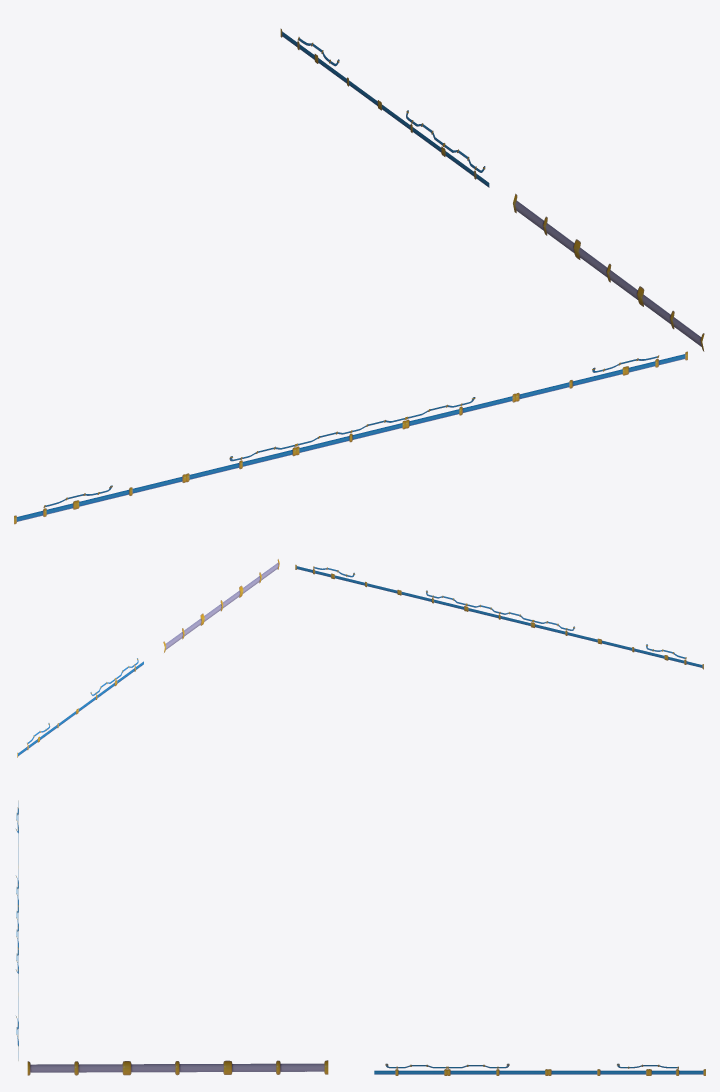
File: Pipes_Level16_63.fbx
3 views of the same model, one above another, from view 1: azimuth 30°, elevation 25°; view 2: azimuth 150°, elevation 25°; view 3: azimuth 270°, elevation 25° (orthographic). The views are drawn at different scales.
Parts seen in each view (by area): view 1: Top_Pipes_2D_Blue (×2), Side_Pipes_2D_Creme; view 2: Top_Pipes_2D_Blue (×2), Side_Pipes_2D_Creme; view 3: Side_Pipes_2D_Creme, Top_Pipes_2D_Blue (×2).
Part boxes in pixels (x1,y1,x2,y2): Top_Pipes_2D_Blue (×2): (14,28,687,524); Side_Pipes_2D_Creme: (513,194,704,351); Top_Pipes_2D_Blue (×2): (17,564,703,757); Side_Pipes_2D_Creme: (163,559,279,652); Side_Pipes_2D_Creme: (27,1060,328,1075); Top_Pipes_2D_Blue (×2): (15,800,705,1075).
Bounding box in the file's own units: 470 × 15.71 × 503.
Materials: 1 (1 with a texture image).
